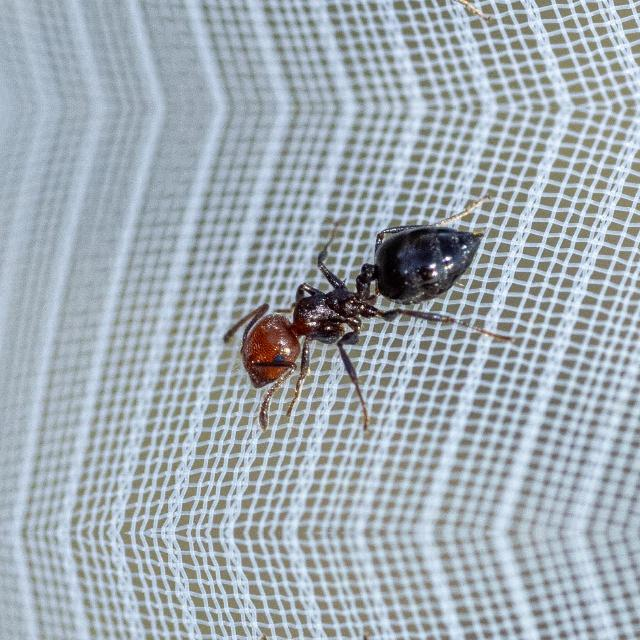Crematogaster: (227, 215, 489, 408)
